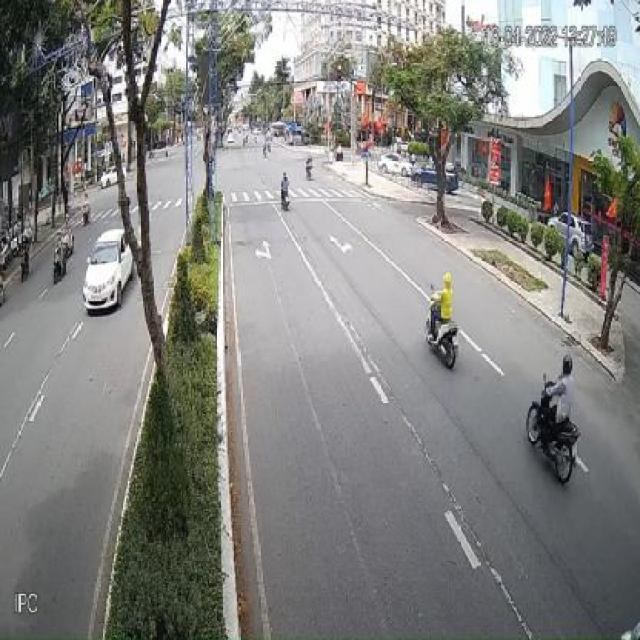car: (84, 228, 135, 310)
motorbike: (529, 355, 583, 486), (425, 270, 460, 370), (54, 244, 66, 285), (280, 170, 290, 209), (306, 154, 315, 180)
